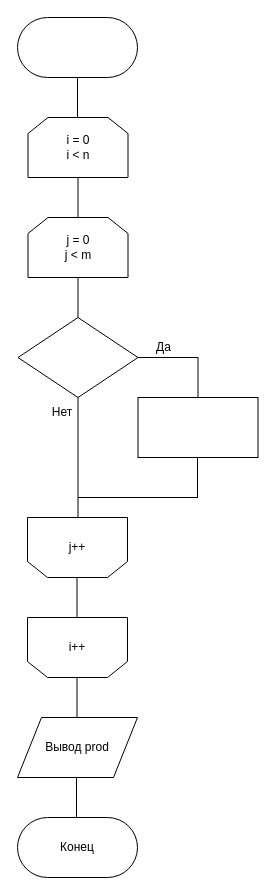
This 276x895 diagram has some shape labels left out. Each missing label, with the centre of its shape:
"!(j & 1)" goes at point 77,357.
"prod *= a[i][j]" goes at point 197,427.
"Начало" goes at point 77,47.
